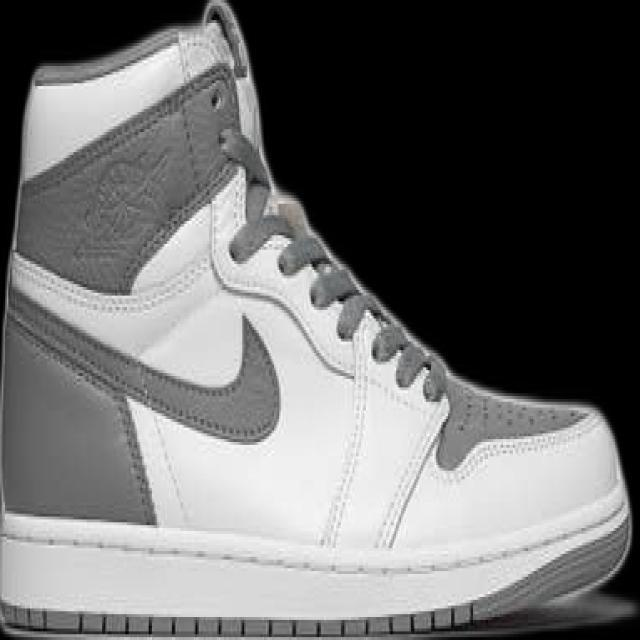J1_ShoeLogo: (1, 0, 632, 634)
J1_StitchPattern: (214, 123, 587, 468), (201, 58, 446, 551), (4, 502, 632, 586), (5, 282, 281, 444), (314, 308, 448, 553), (277, 233, 446, 403), (3, 601, 477, 636), (315, 312, 375, 552), (111, 395, 195, 527), (373, 407, 448, 550), (451, 390, 587, 438)
